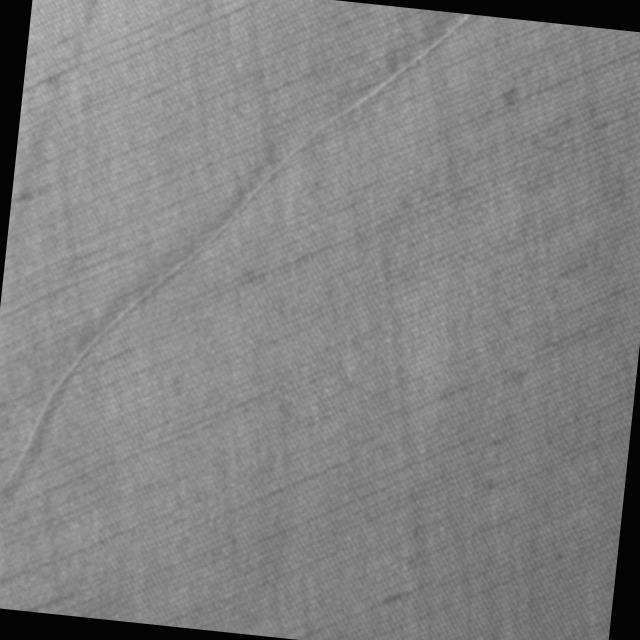objects: (0, 0, 480, 543)
